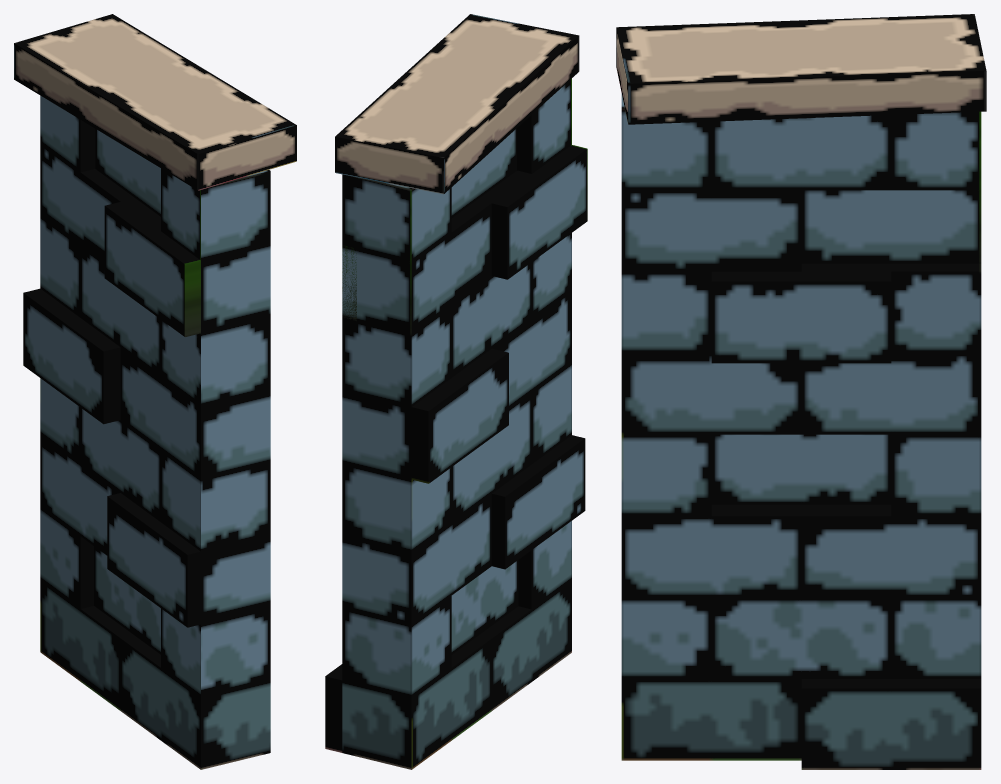
The model's file is deco_wallTall_B.FBX.
3 renders of one model, left to right at view 1: azimuth 30°, elevation 25°; view 2: azimuth 150°, elevation 25°; view 3: azimuth 270°, elevation 25°, orthographic. The views are drawn at different scales.
Visible parts, largest first — view 1: deco_wallTall_B; view 2: deco_wallTall_B; view 3: deco_wallTall_B.
Part boxes in pixels (bbox=[...]): deco_wallTall_B: bbox=[14, 14, 296, 769]; deco_wallTall_B: bbox=[325, 14, 587, 769]; deco_wallTall_B: bbox=[616, 14, 986, 769].
Bounding box in the file's own units: 0.9215 × 4.25 × 2.06.
1 material, 1 textured.
